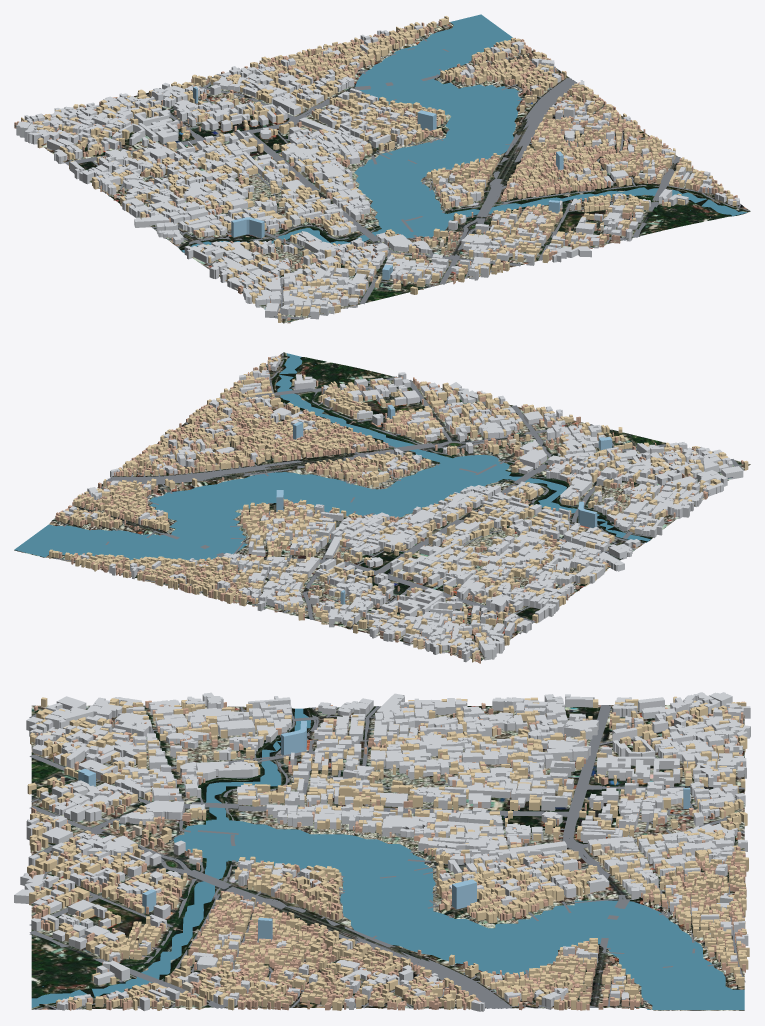
The picture shows the model from 3 angles, top to bottom: view 1: azimuth 30°, elevation 25°; view 2: azimuth 150°, elevation 25°; view 3: azimuth 270°, elevation 25°; orthographic projection. The views are drawn at different scales.
Visible parts, largest first — view 1: BLDG_MAT_07_APARTMENT_CONCRETE, BLDG_MAT_05_SHOPHOUSE_COMMERCIAL, WATER_T_E00_N01, TERRAIN_T_E00_N01, BLDG_MAT_04_TUBE_HOUSE_ROOF_TIN, ROAD_METRO_T_E00_N01, BLDG_MAT_08_MODERN_TOWER_CURTAINWALL; view 2: BLDG_MAT_07_APARTMENT_CONCRETE, BLDG_MAT_05_SHOPHOUSE_COMMERCIAL, WATER_T_E00_N01, TERRAIN_T_E00_N01, BLDG_MAT_04_TUBE_HOUSE_ROOF_TIN, ROAD_METRO_T_E00_N01, BLDG_MAT_08_MODERN_TOWER_CURTAINWALL; view 3: BLDG_MAT_07_APARTMENT_CONCRETE, BLDG_MAT_05_SHOPHOUSE_COMMERCIAL, WATER_T_E00_N01, TERRAIN_T_E00_N01, BLDG_MAT_04_TUBE_HOUSE_ROOF_TIN, ROAD_METRO_T_E00_N01, BLDG_MAT_08_MODERN_TOWER_CURTAINWALL, BLDG_MAT_06_VILLA_COLONIAL_MODERN.
Part boxes in pixels (x1,y1,x2,y2): BLDG_MAT_07_APARTMENT_CONCRETE: (16, 25, 739, 319); BLDG_MAT_05_SHOPHOUSE_COMMERCIAL: (21, 16, 736, 322); WATER_T_E00_N01: (179, 14, 747, 252); TERRAIN_T_E00_N01: (14, 22, 750, 323); BLDG_MAT_04_TUBE_HOUSE_ROOF_TIN: (14, 20, 737, 323); ROAD_METRO_T_E00_N01: (47, 23, 749, 319); BLDG_MAT_08_MODERN_TOWER_CURTAINWALL: (193, 86, 563, 279); BLDG_MAT_07_APARTMENT_CONCRETE: (62, 355, 743, 662); BLDG_MAT_05_SHOPHOUSE_COMMERCIAL: (49, 356, 748, 662); WATER_T_E00_N01: (14, 353, 650, 560); TERRAIN_T_E00_N01: (14, 352, 750, 660); BLDG_MAT_04_TUBE_HOUSE_ROOF_TIN: (55, 356, 743, 663); ROAD_METRO_T_E00_N01: (24, 353, 743, 657); BLDG_MAT_08_MODERN_TOWER_CURTAINWALL: (276, 404, 612, 604); BLDG_MAT_07_APARTMENT_CONCRETE: (14, 692, 750, 1011); BLDG_MAT_05_SHOPHOUSE_COMMERCIAL: (27, 696, 749, 1010); WATER_T_E00_N01: (31, 708, 744, 1009); TERRAIN_T_E00_N01: (31, 705, 744, 1010); BLDG_MAT_04_TUBE_HOUSE_ROOF_TIN: (29, 700, 746, 1010); ROAD_METRO_T_E00_N01: (29, 705, 745, 1009); BLDG_MAT_08_MODERN_TOWER_CURTAINWALL: (78, 721, 690, 942); BLDG_MAT_06_VILLA_COLONIAL_MODERN: (43, 713, 604, 992).
Bounding box in the file's own units: 2061 × 78 × 2068.
Materials: 8 (1 with a texture image).
